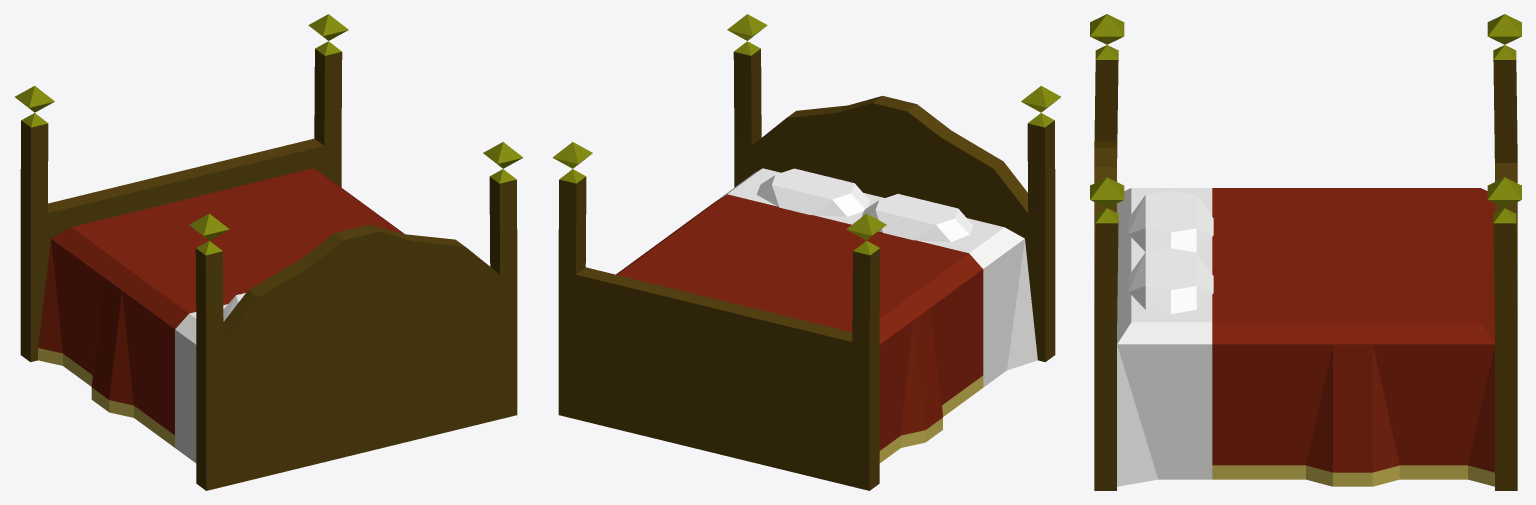
Rendered from obj_bed_10_0.obj.
3 views of the same model, side by side, from view 1: azimuth 30°, elevation 25°; view 2: azimuth 150°, elevation 25°; view 3: azimuth 270°, elevation 25° (orthographic). The views are drawn at different scales.
Bounding box in the file's own units: 2.31 × 1.88 × 2.38.
